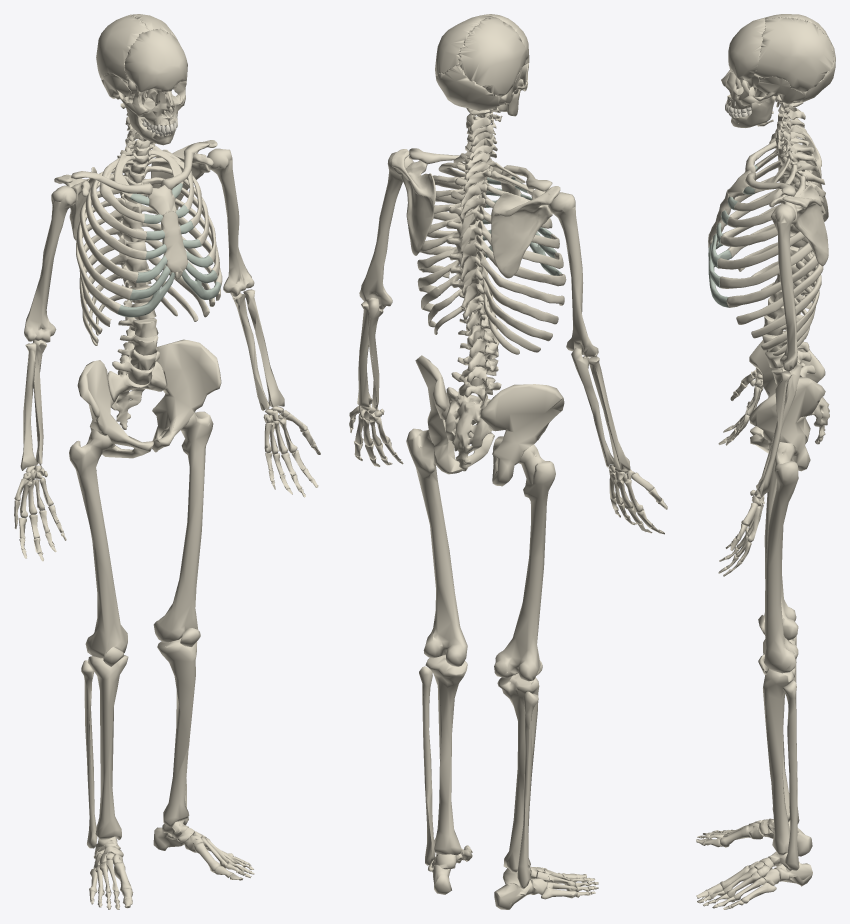
The model's file is skeleton.glb.
3 views of the same model, side by side, from view 1: azimuth 30°, elevation 25°; view 2: azimuth 150°, elevation 25°; view 3: azimuth 270°, elevation 25° (orthographic). The views are drawn at different scales.
Parts seen in each view (by area): view 1: legs, thorax, pelvis, head, armR, armL, L5; view 2: legs, thorax, pelvis, head, armR, armL, L5; view 3: legs, thorax, head, armL, pelvis, armR, L4.
Boxes of the visible parts, x1,y1,x2,y2 form: legs: [69, 411, 254, 909]; thorax: [54, 140, 222, 345]; pelvis: [77, 339, 221, 458]; head: [96, 14, 187, 145]; armR: [14, 185, 76, 561]; armL: [207, 148, 320, 497]; L5: [112, 351, 159, 384]; legs: [406, 428, 598, 909]; thorax: [391, 148, 566, 354]; pelvis: [415, 355, 564, 486]; head: [435, 14, 529, 132]; armR: [548, 192, 667, 534]; armL: [349, 152, 413, 466]; L5: [451, 372, 501, 400]; legs: [696, 442, 812, 909]; thorax: [708, 124, 828, 356]; head: [721, 14, 835, 127]; armL: [718, 204, 801, 576]; pelvis: [749, 330, 829, 471]; armR: [718, 129, 785, 445]; L4: [765, 350, 811, 368].
Bounding box in the file's own units: 2.45 × 6.45 × 0.9599.
